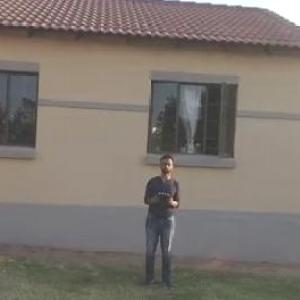follow: (138, 147, 184, 296)
